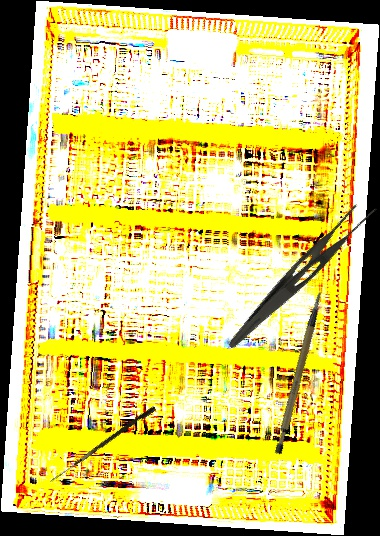Dressing Forceps: (226, 190, 380, 364)
Hook Surgical: (49, 404, 157, 487)
Scalpel Handle: (253, 289, 348, 457)
